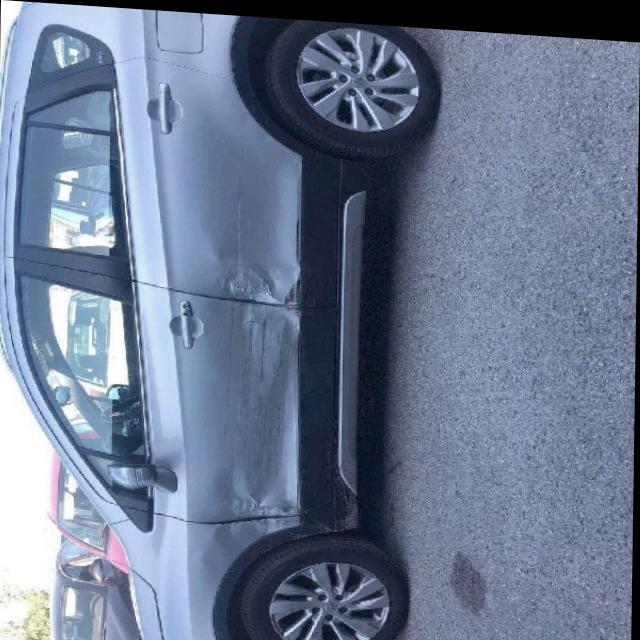porte-avant: (1, 255, 342, 529)
